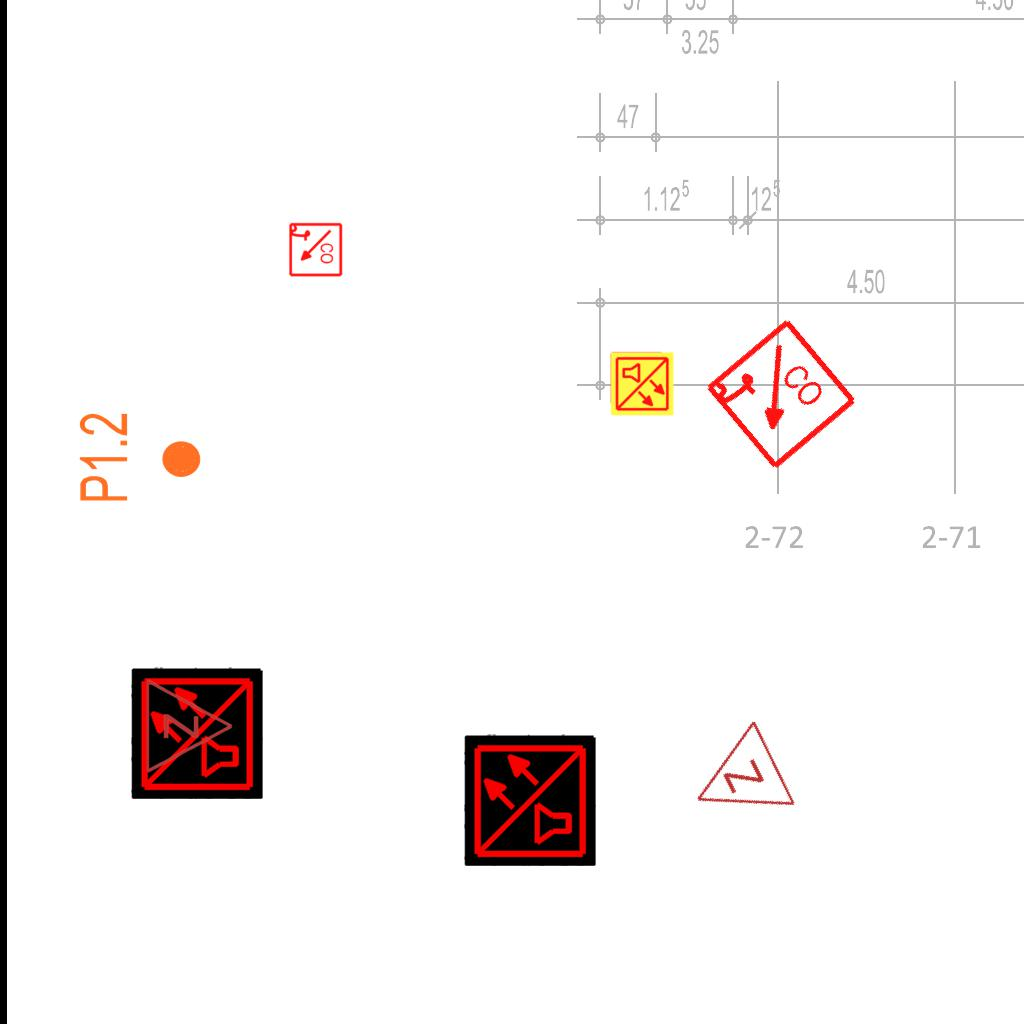Downlight_LED_Einbauleuchten_Flur: (76, 411, 204, 504)
OKW_Multisensormelder_(Kombination_optischer_Rauch-Kahlenmonoxid_Waerme-Melder): (131, 667, 263, 799), (464, 734, 596, 866), (609, 351, 675, 417)
ROA_Rauchmelder_optisch_mit_Signalgeber_(Sockelsirene): (700, 315, 861, 476), (287, 222, 343, 278)
Zimmersignalleuchte: (670, 716, 804, 848), (139, 676, 239, 774)
